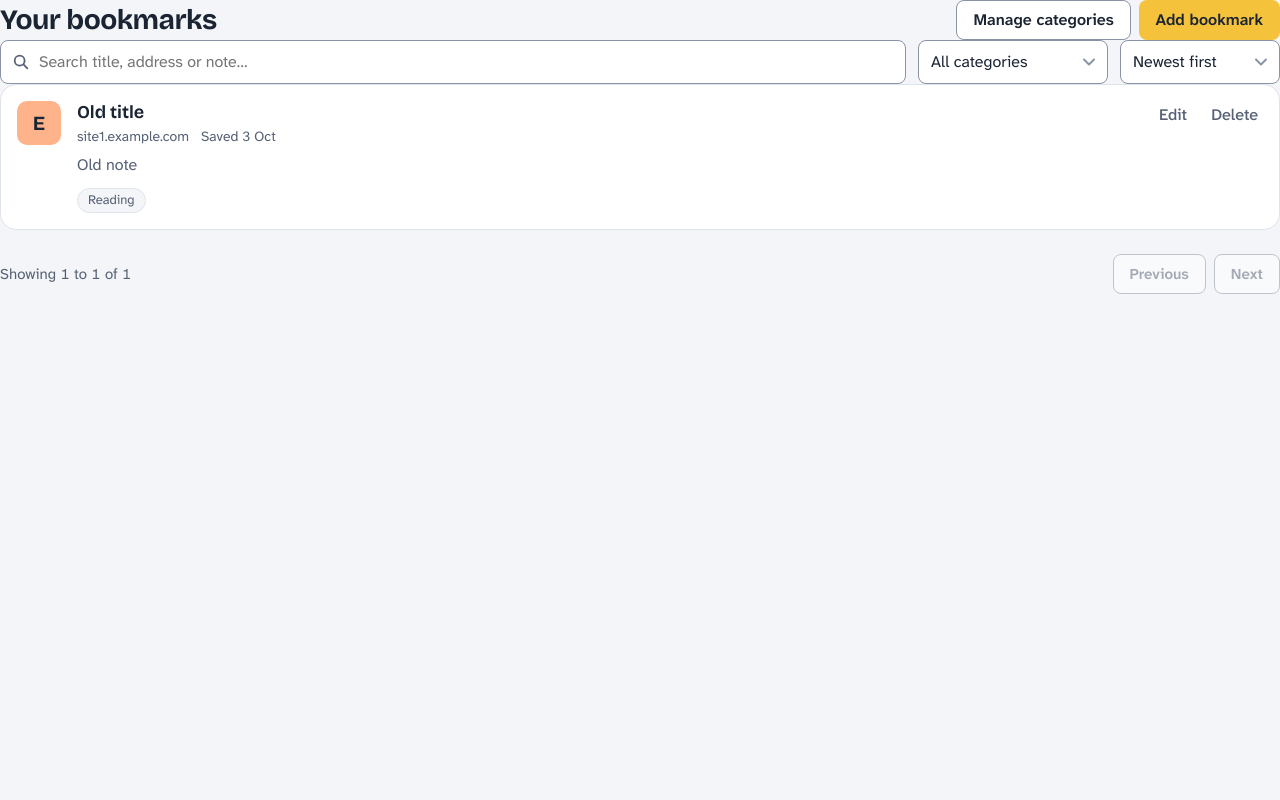
editing a bookmark › opens the form filled in, saves the changes and shows them in the list
Click the button with aria-label "Edit Old title" at (1173, 115), box [1148,97,1198,133]
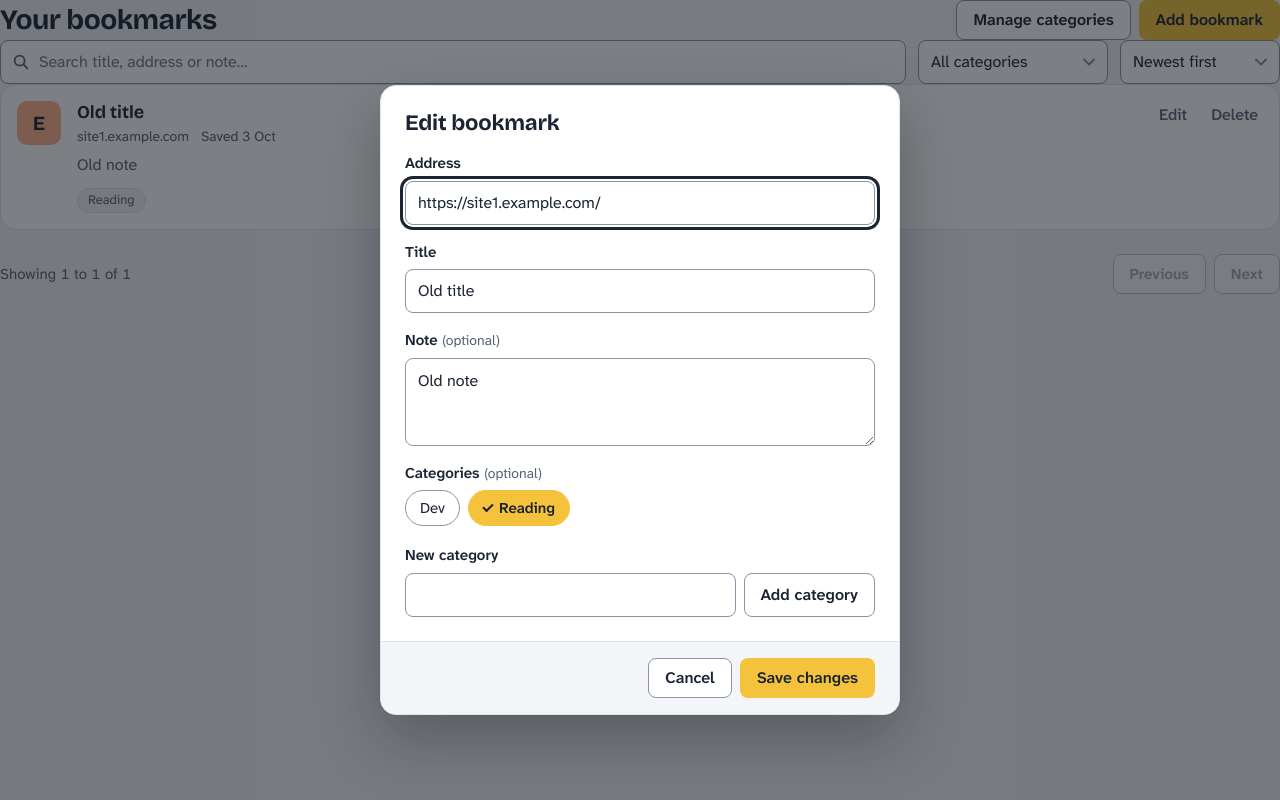
Check: the field labelled "Title" holds "Old title"
Check: the text box labelled "Note (optional)" holds "Old note", box [405,358,875,446]
Check: the checkbox labelled "Reading" is checked, box [468,490,570,526]
Replace the text in the field labelled "Title" with "New title" at (640, 291), box [405,269,875,313]
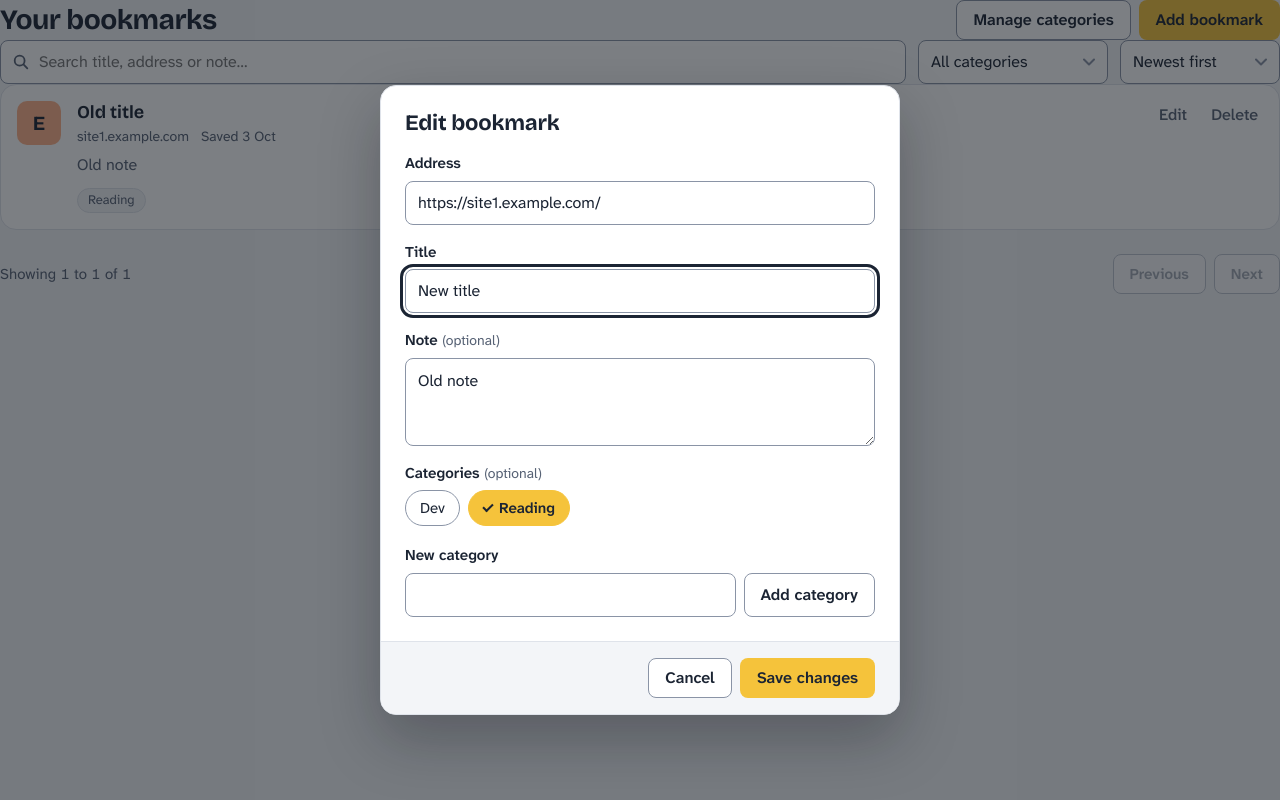
Clear the text box labelled "Note (optional)" at (640, 402), box [405,358,875,446]
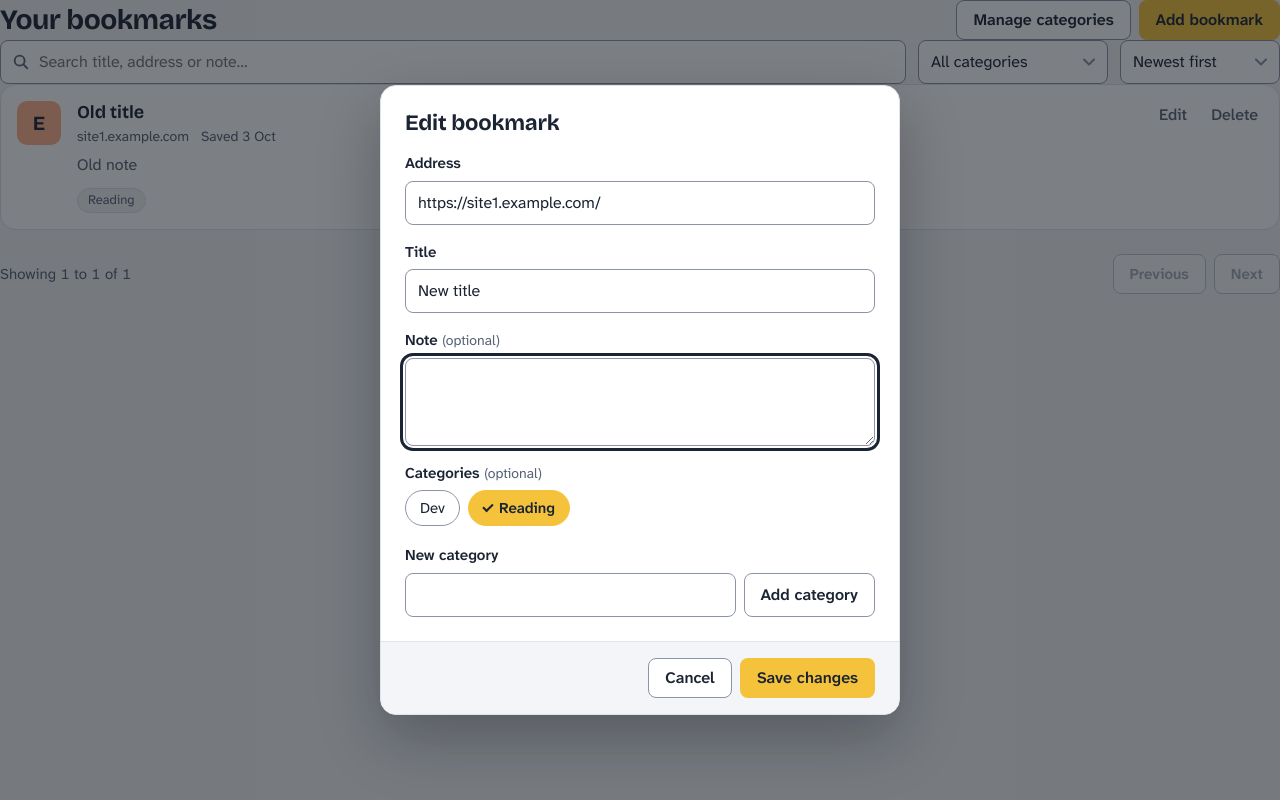
Click the button "Save changes" at (807, 678), box [740,658,875,698]
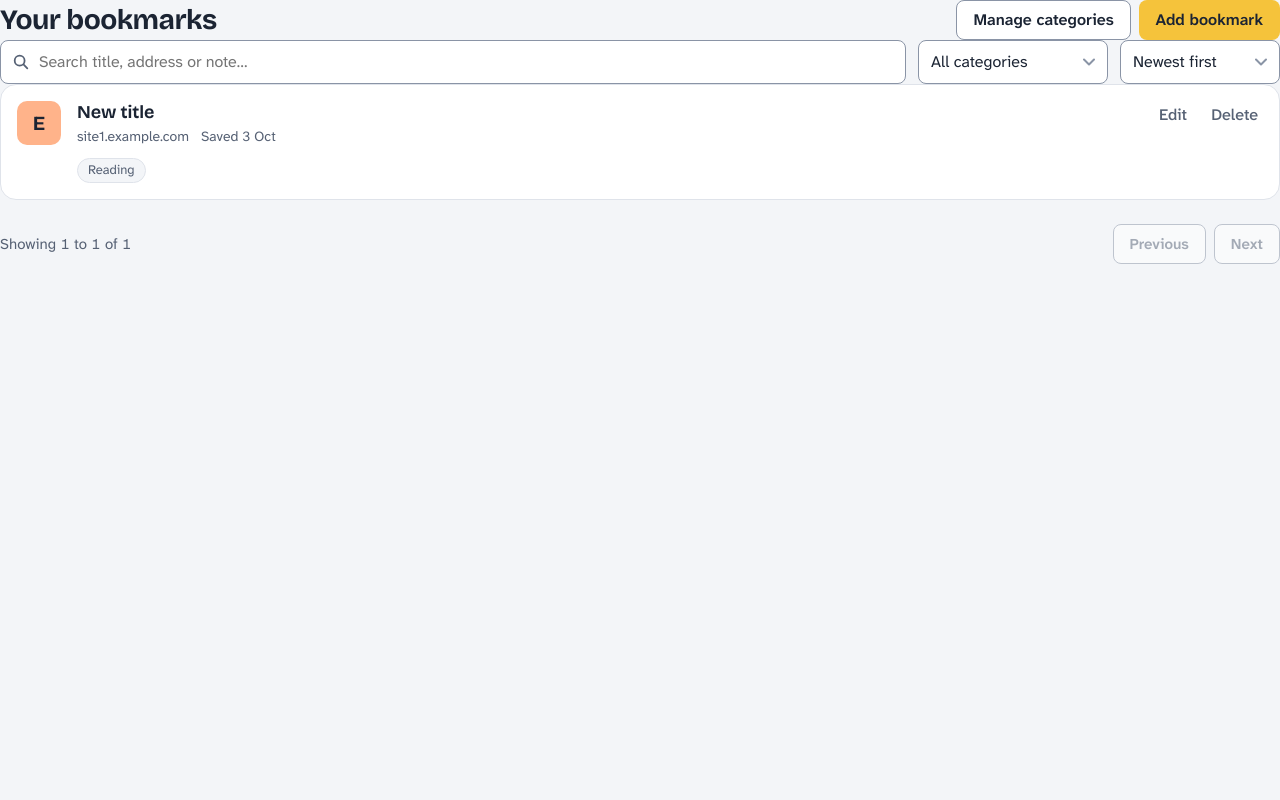
Check: the link "New title" is shown, box [77,101,154,123]
Check: the link "Old title" is gone
